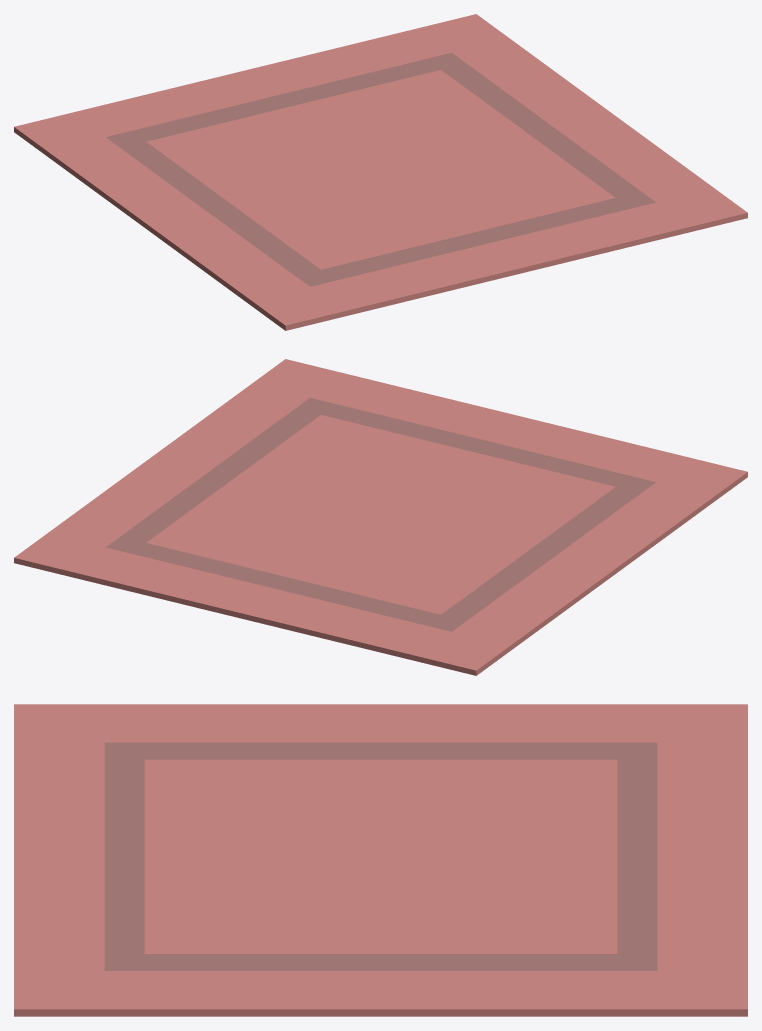
File: rugSquare.glb
The picture shows the model from 3 angles, top to bottom: view 1: azimuth 30°, elevation 25°; view 2: azimuth 150°, elevation 25°; view 3: azimuth 270°, elevation 25°; orthographic projection. The views are drawn at different scales.
Visible parts, largest first — view 1: rugSquare; view 2: rugSquare; view 3: rugSquare.
Boxes of the visible parts, x1,y1,x2,y2 form: rugSquare: (14,14,747,330); rugSquare: (14,359,747,675); rugSquare: (14,704,747,1016).
Bounding box in the file's own units: 0.9043 × 0.01 × 0.92.
